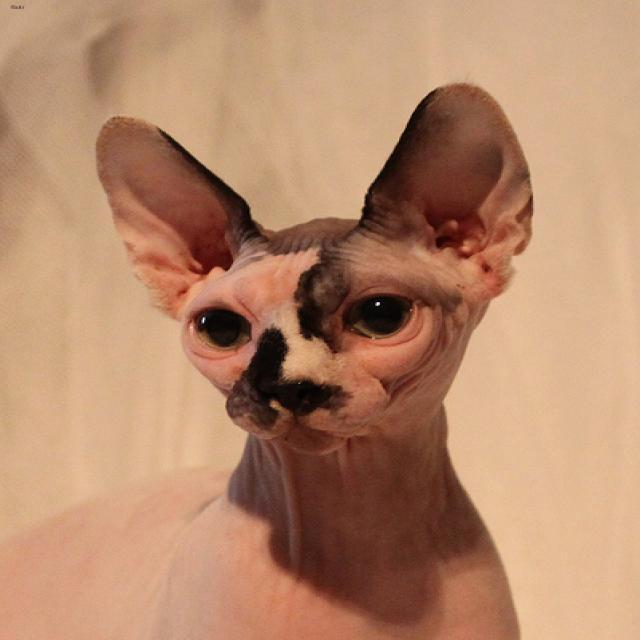Sphynx: (95, 81, 541, 457)
